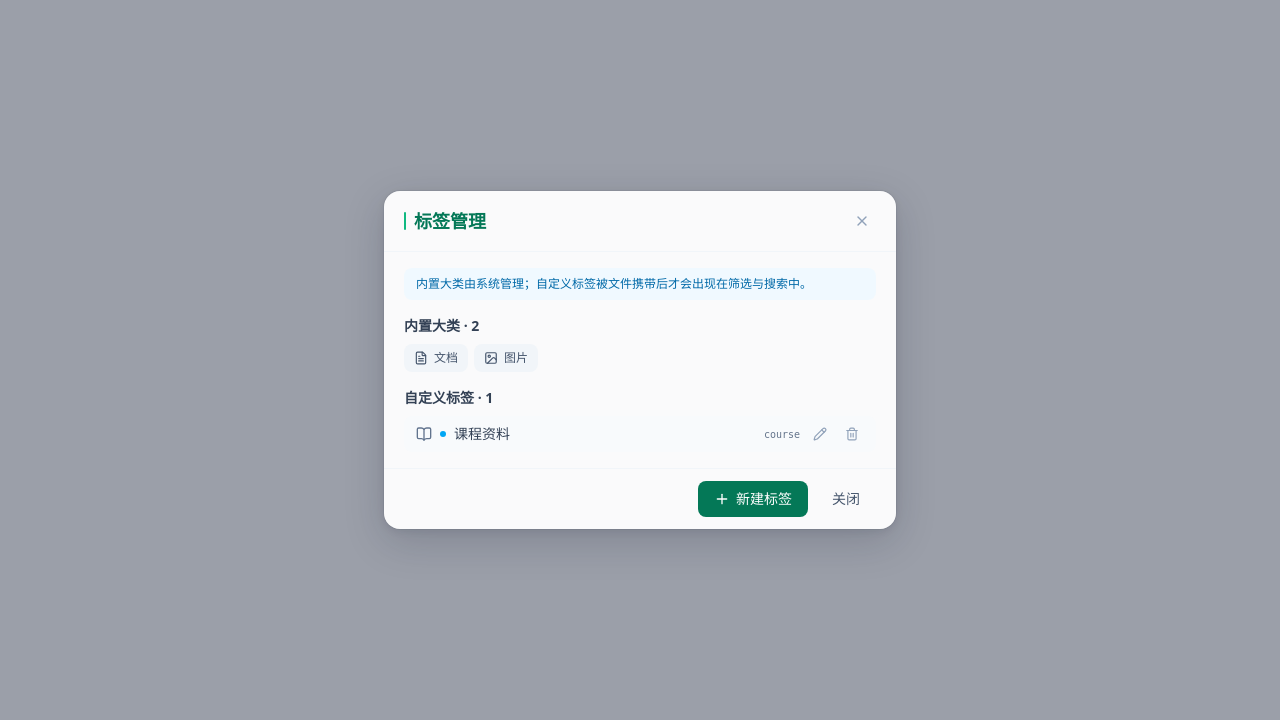
Scenario: LabelManageDialog › 空表单拒绝保存并提示
Click the button "新建标签" at (753, 499), box [698, 481, 808, 517]
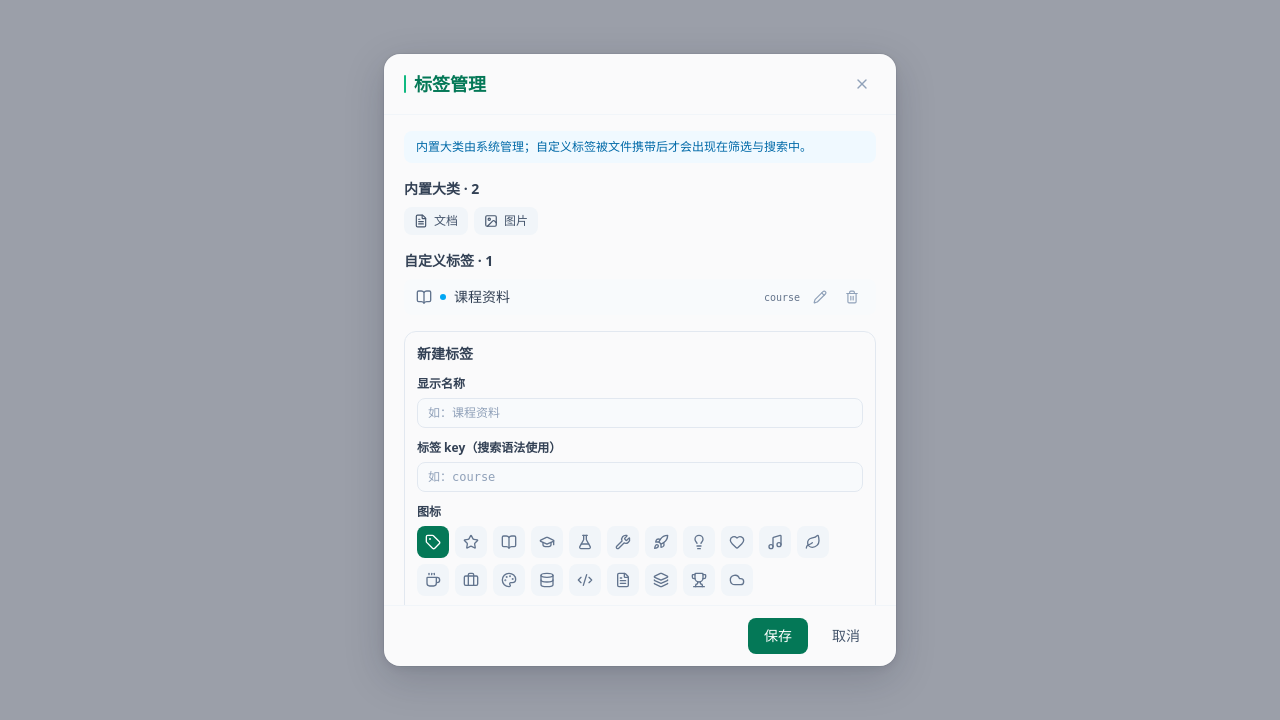
Click the button "保存" at (778, 636), box [748, 618, 808, 654]
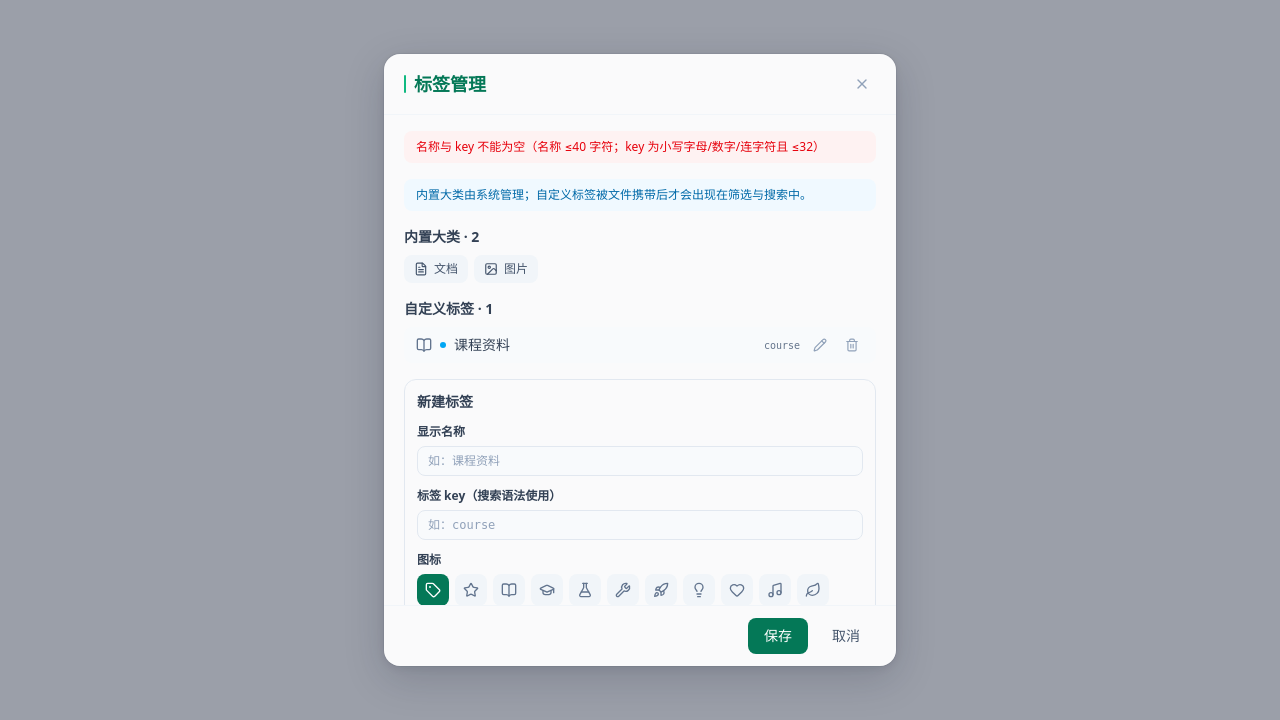
Now the text "名称与 key 不能为空（名称 ≤40 字符；key 为小写字母/数字/连字符且 ≤32）" is shown, box [404, 131, 876, 163]
